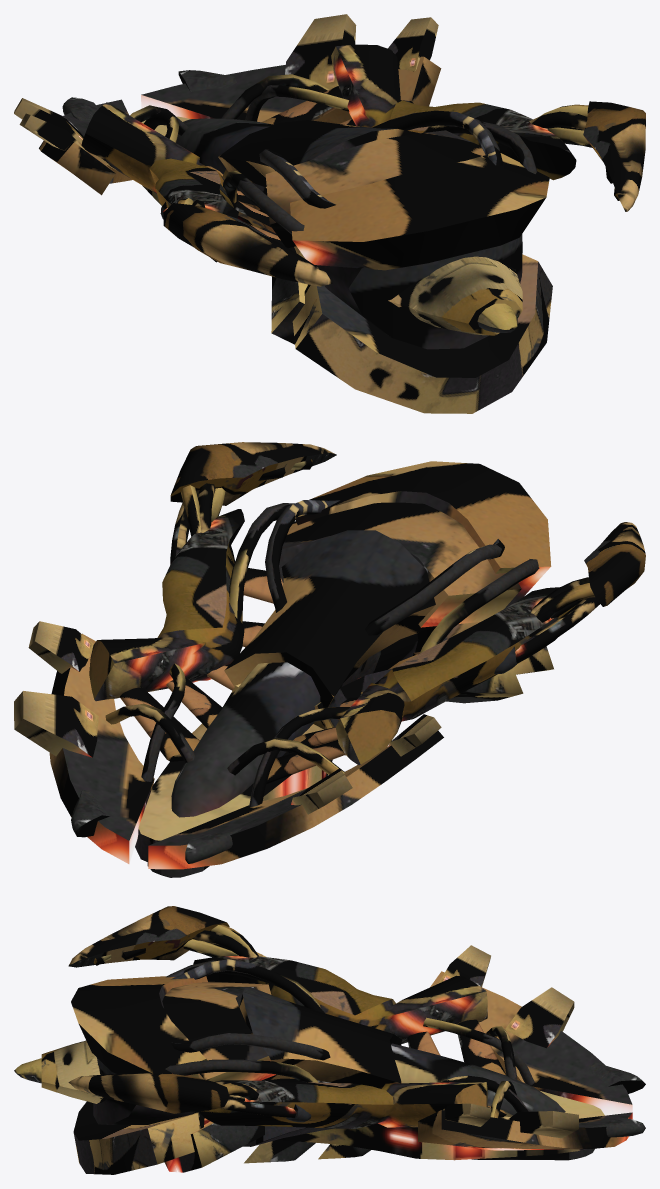
The model's file is ship19d.fbx.
3 views of the same model, one above another, from view 1: azimuth 30°, elevation 25°; view 2: azimuth 150°, elevation 25°; view 3: azimuth 270°, elevation 25° (orthographic). The views are drawn at different scales.
Visible parts, largest first — view 1: PipelineFBX; view 2: PipelineFBX; view 3: PipelineFBX.
Boxes of the visible parts, x1,y1,x2,y2 form: PipelineFBX: (14, 14, 645, 413); PipelineFBX: (14, 442, 645, 877); PipelineFBX: (14, 906, 645, 1174).
Bounding box in the file's own units: 359 × 158 × 528.
Materials: 1 (1 with a texture image).
